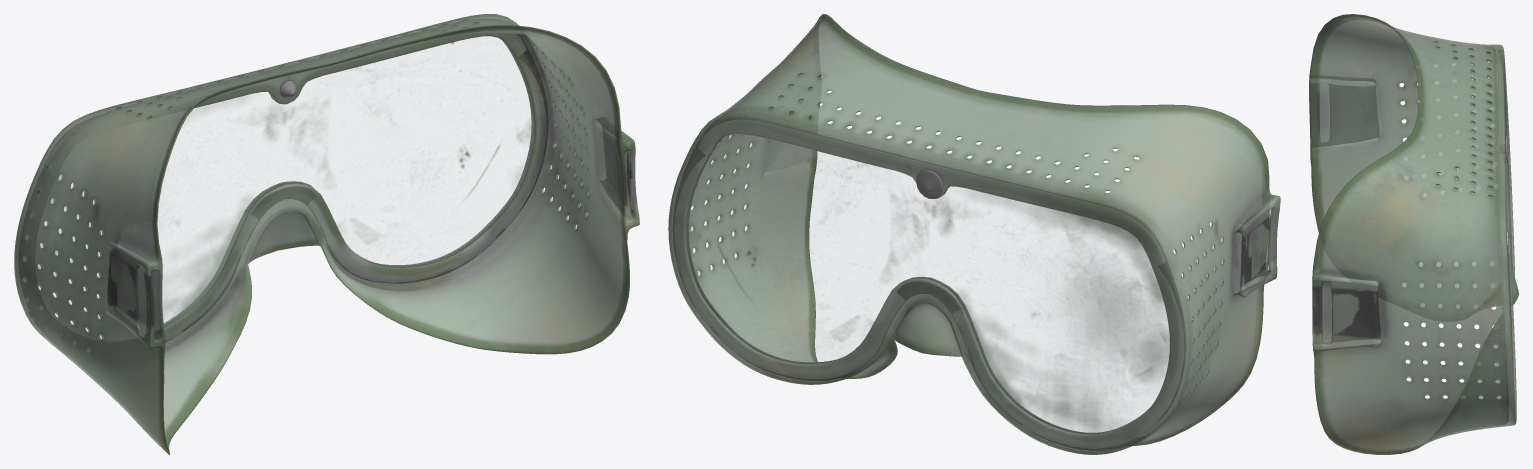
File: eyeProtectionGlasses.gltf
3 views of the same model, side by side, from view 1: azimuth 30°, elevation 25°; view 2: azimuth 150°, elevation 25°; view 3: azimuth 270°, elevation 25° (orthographic). The views are drawn at different scales.
Parts seen in each view (by area): view 1: eyeProtectionGlasses; view 2: eyeProtectionGlasses; view 3: eyeProtectionGlasses.
Boxes of the visible parts, x1,y1,x2,y2 form: eyeProtectionGlasses: (14,14,639,454); eyeProtectionGlasses: (668,14,1280,454); eyeProtectionGlasses: (1309,14,1518,454).
Bounding box in the file's own units: 1.53 × 0.929 × 0.6015.
Materials: 1 (1 with a texture image).
